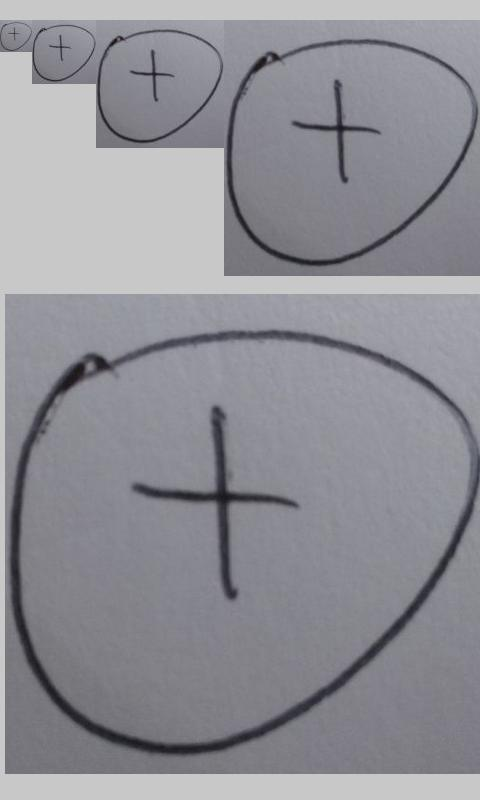button: (7, 328, 479, 757), (226, 38, 477, 266), (97, 30, 223, 143), (33, 24, 96, 82), (1, 22, 32, 51)
